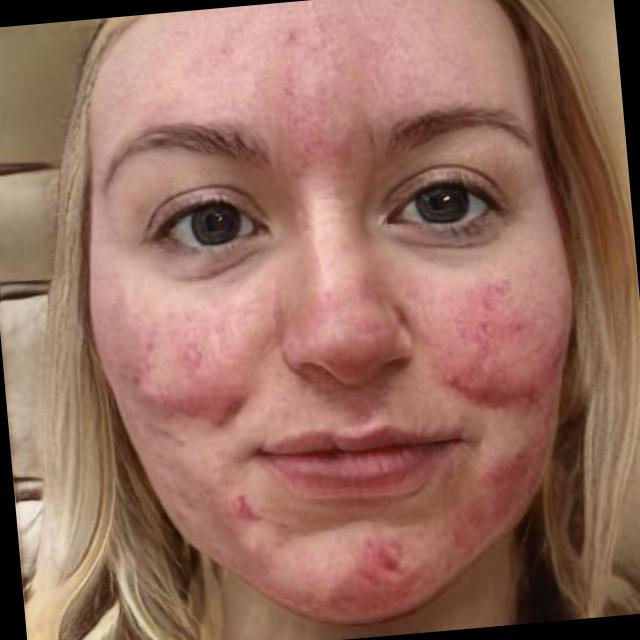redness: (370, 269, 572, 553), (251, 15, 384, 165), (123, 307, 267, 434), (285, 285, 409, 369), (324, 533, 439, 612), (223, 493, 278, 530)
